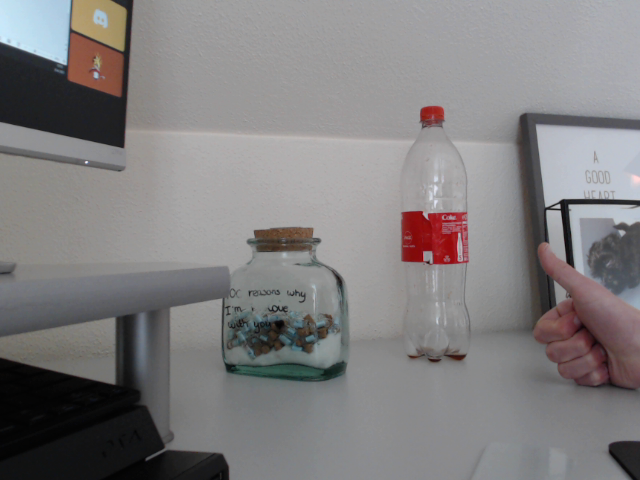bottle: (400, 106, 472, 363)
